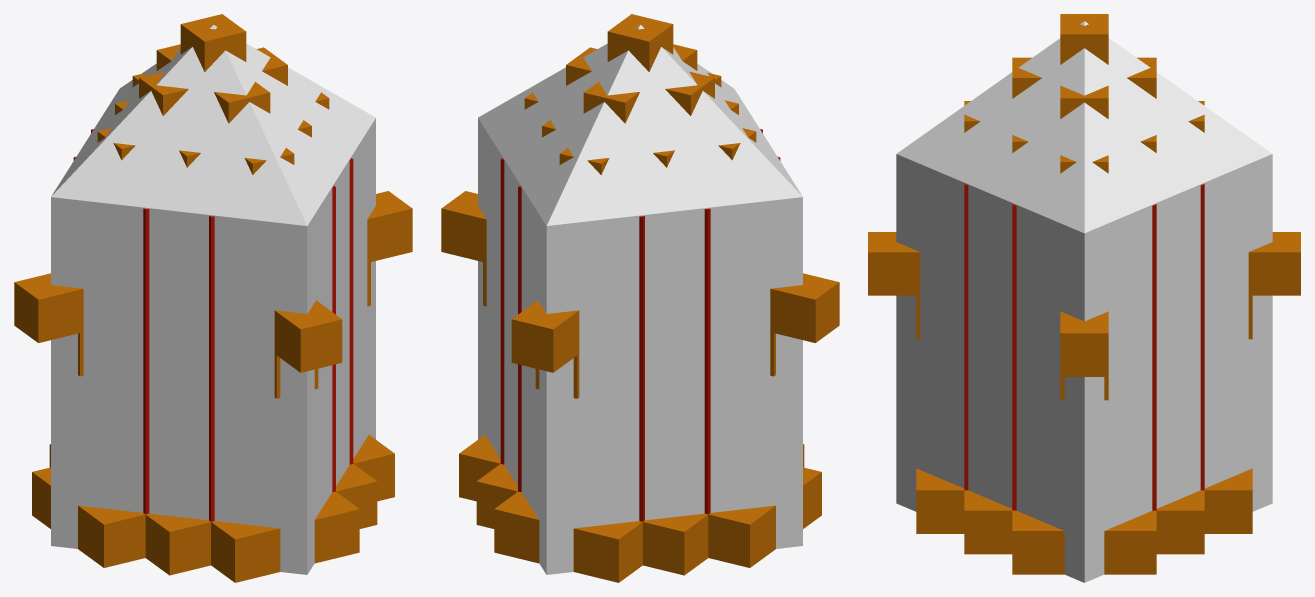
File: Water1_B2_1_01.FBX
3 renders of one model, left to right at view 1: azimuth 30°, elevation 25°; view 2: azimuth 150°, elevation 25°; view 3: azimuth 270°, elevation 25°, orthographic.
Parts seen in each view (by area): view 1: Water1_B2_Damage_1_01, Water1_B2_Live_1_01; view 2: Water1_B2_Damage_1_01, Water1_B2_Live_1_01; view 3: Water1_B2_Damage_1_01, Water1_B2_Live_1_01.
Part boxes in pixels (left/top/right/bottom): Water1_B2_Damage_1_01: left=51, top=25, right=375, bottom=574; Water1_B2_Live_1_01: left=14, top=14, right=412, bottom=582; Water1_B2_Damage_1_01: left=478, top=25, right=802, bottom=574; Water1_B2_Live_1_01: left=441, top=14, right=839, bottom=582; Water1_B2_Damage_1_01: left=896, top=21, right=1272, bottom=582; Water1_B2_Live_1_01: left=868, top=14, right=1300, bottom=574.
Size of the model in its own units: 1.35 by 1.66 by 1.35.
